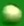white: (0, 0, 24, 26)
